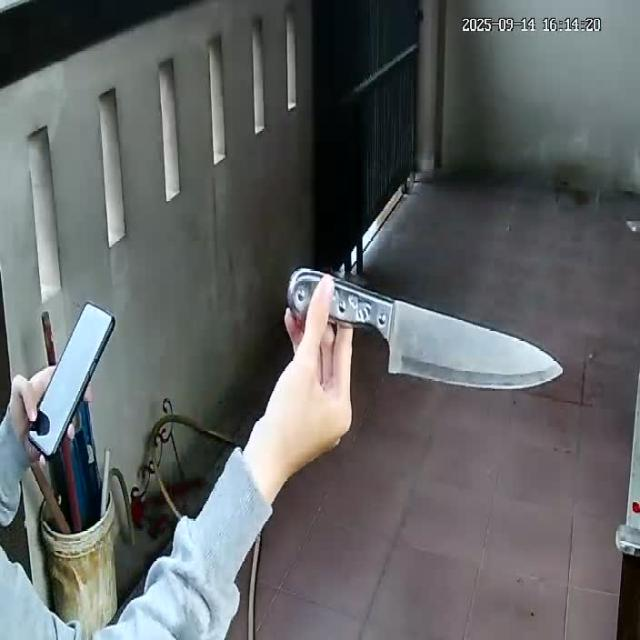senjata_tajam: (354, 285, 572, 394)
